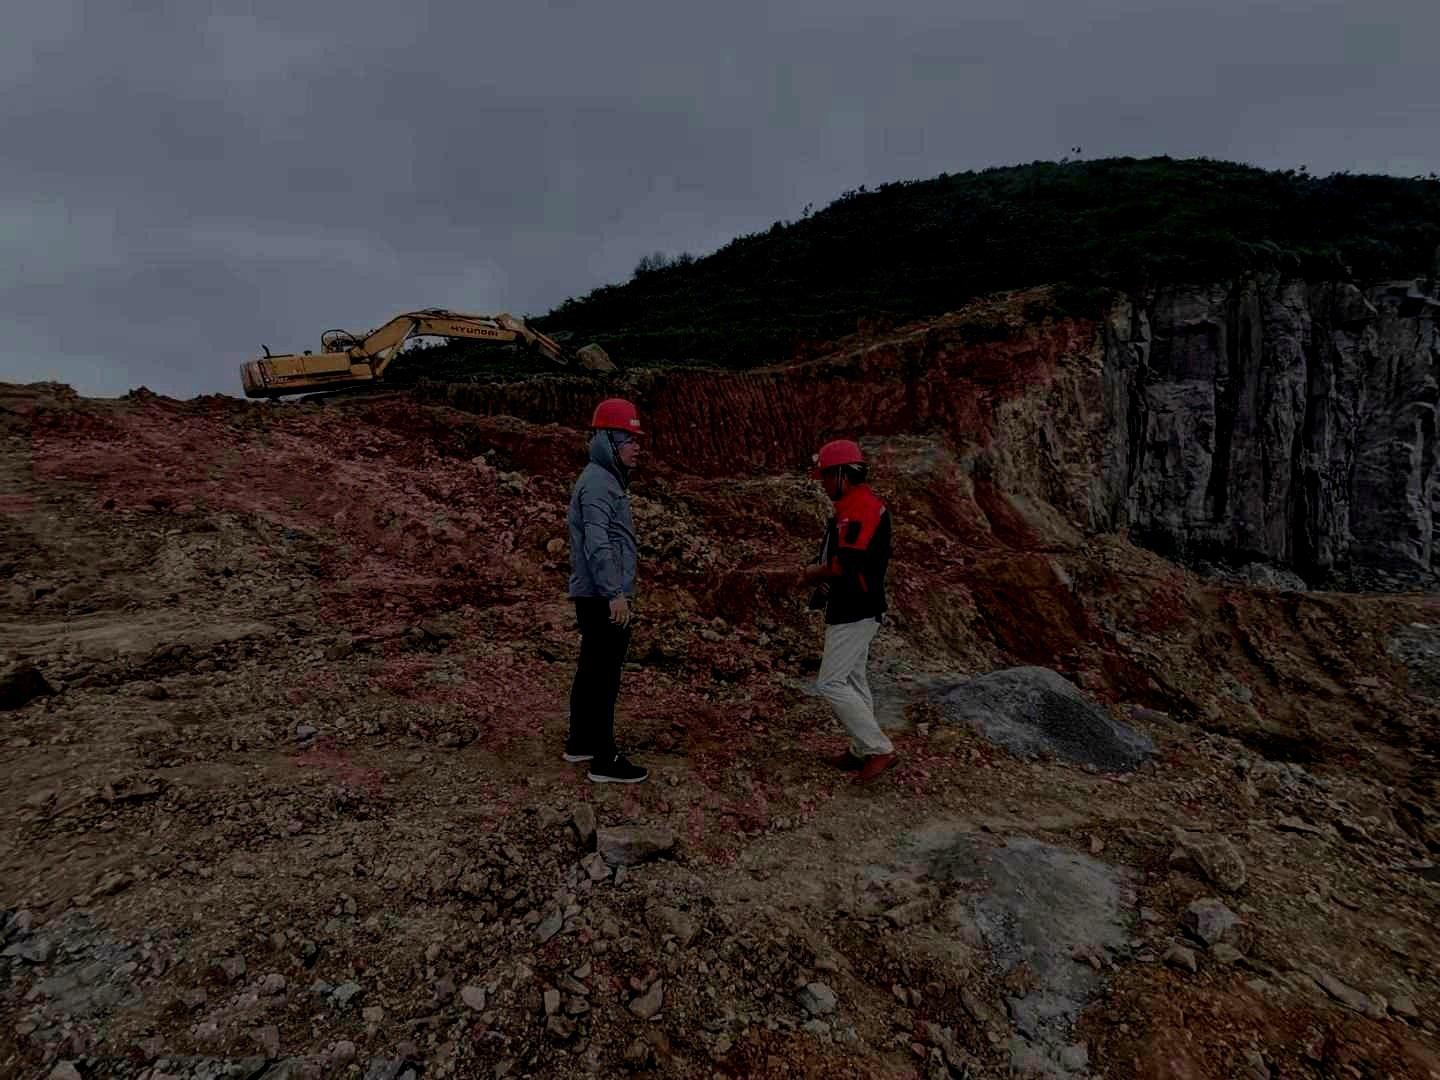helmet: (591, 399, 645, 467), (815, 439, 866, 503)
